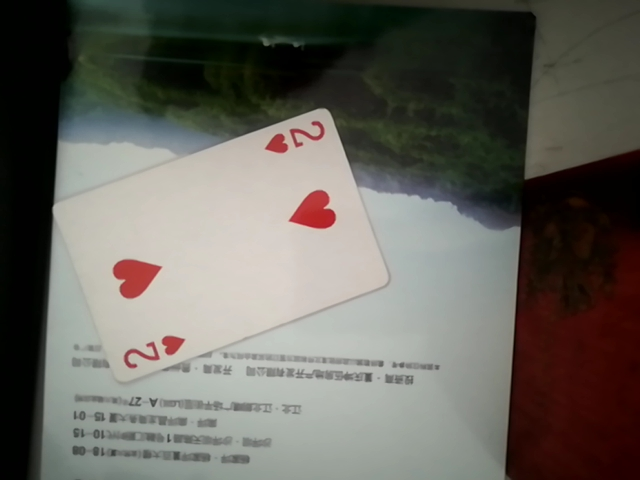hx 2: (61, 102, 379, 381)
